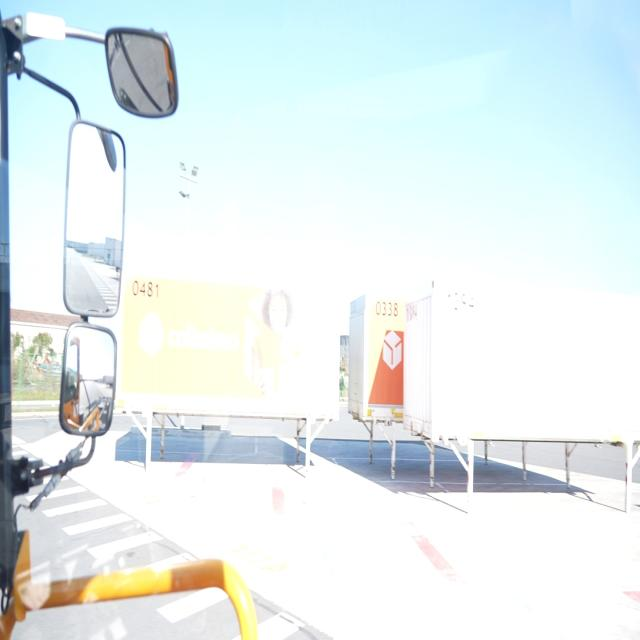Code: (131, 274, 163, 302), (375, 294, 401, 324)
